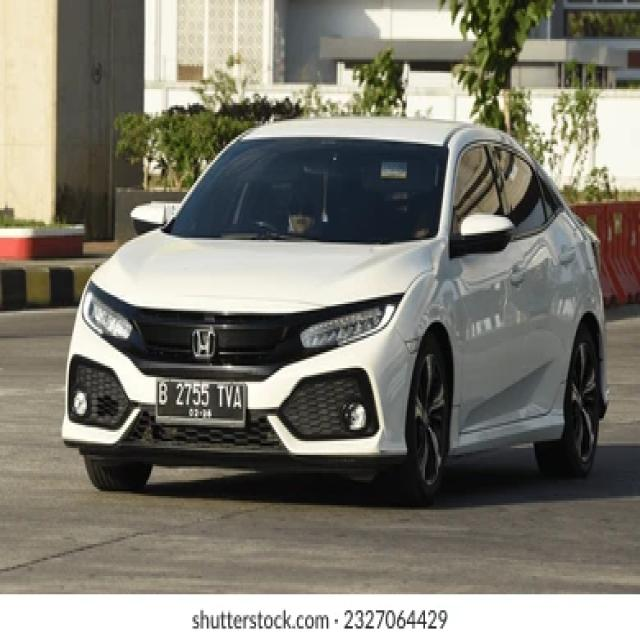honda: (191, 329, 216, 358)
